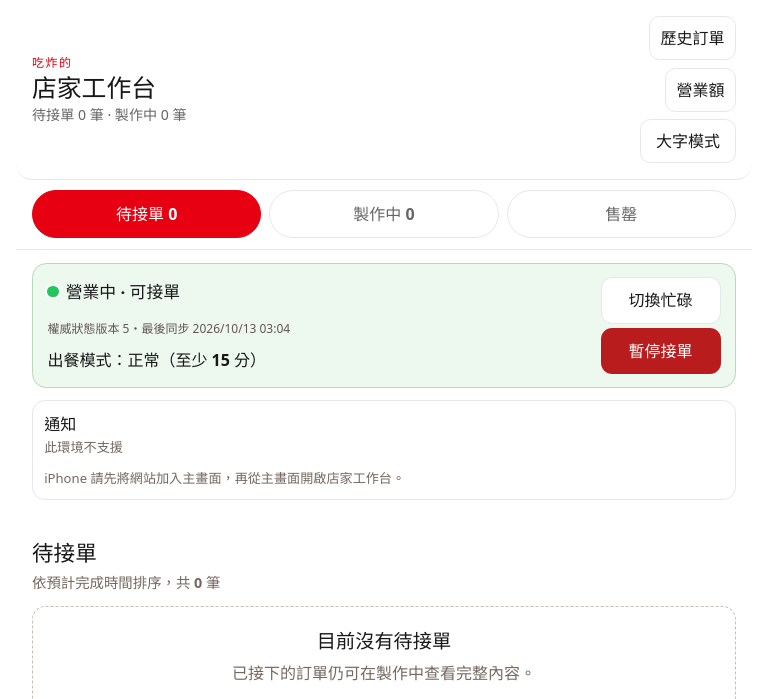
Test: Merchant Store safety DOM › does not replay Pause after a conclusive access denial
Expected: the element with test id "store-control" is shown, left=32, top=263, right=736, bottom=388
Click the button "暫停接單" at (661, 351), box left=601, top=328, right=721, bottom=374
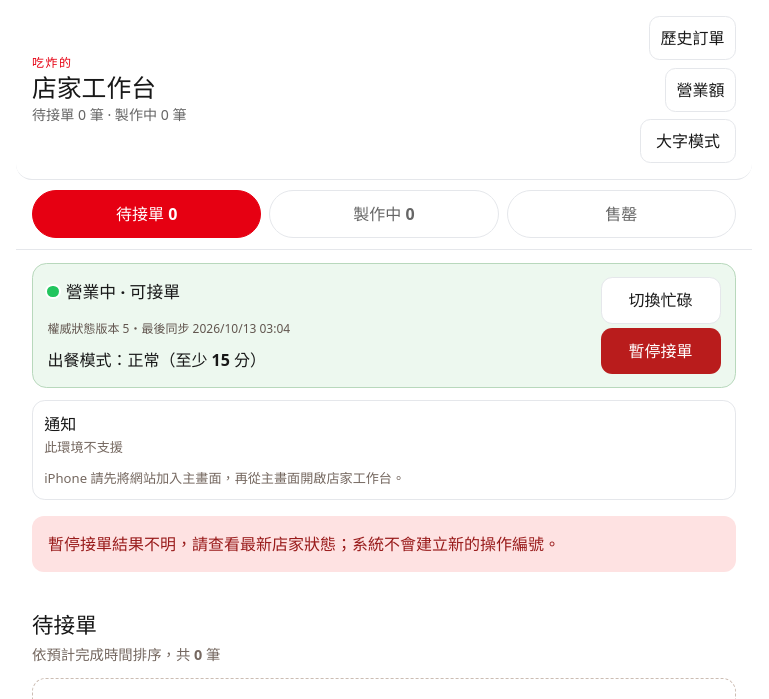
Result: the message "暫停接單結果不明，請查看最新店家狀態；系統不會建立新的操作編號。" is shown at left=32, top=516, right=736, bottom=572
